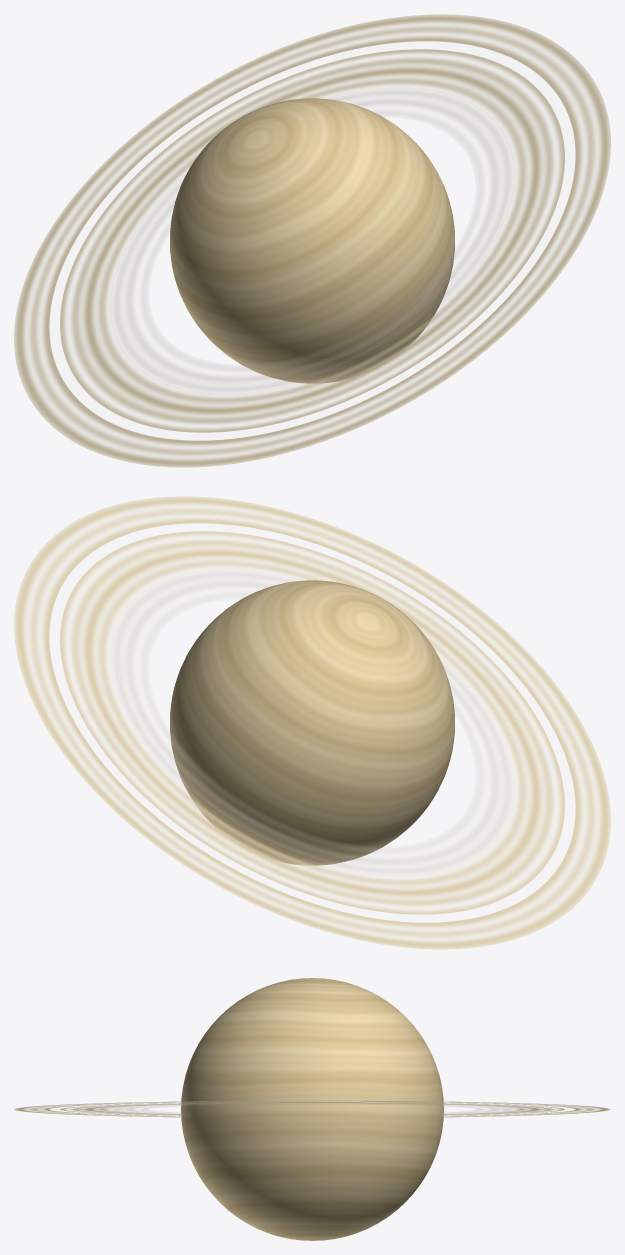
File: saturn.glb
3 renders of one model, top to bottom at view 1: azimuth 30°, elevation 25°; view 2: azimuth 150°, elevation 25°; view 3: azimuth 270°, elevation 25°, orthographic. The views are drawn at different scales.
Parts seen in each view (by area): view 1: Planet; view 2: Planet; view 3: Planet.
Part boxes in pixels (x1,y1,x2,y2): Planet: (14, 14, 610, 467); Planet: (14, 496, 610, 949); Planet: (14, 978, 610, 1240).
Size of the model in its own units: 4.06 by 2.04 by 4.54.
2 materials, 2 textured.
